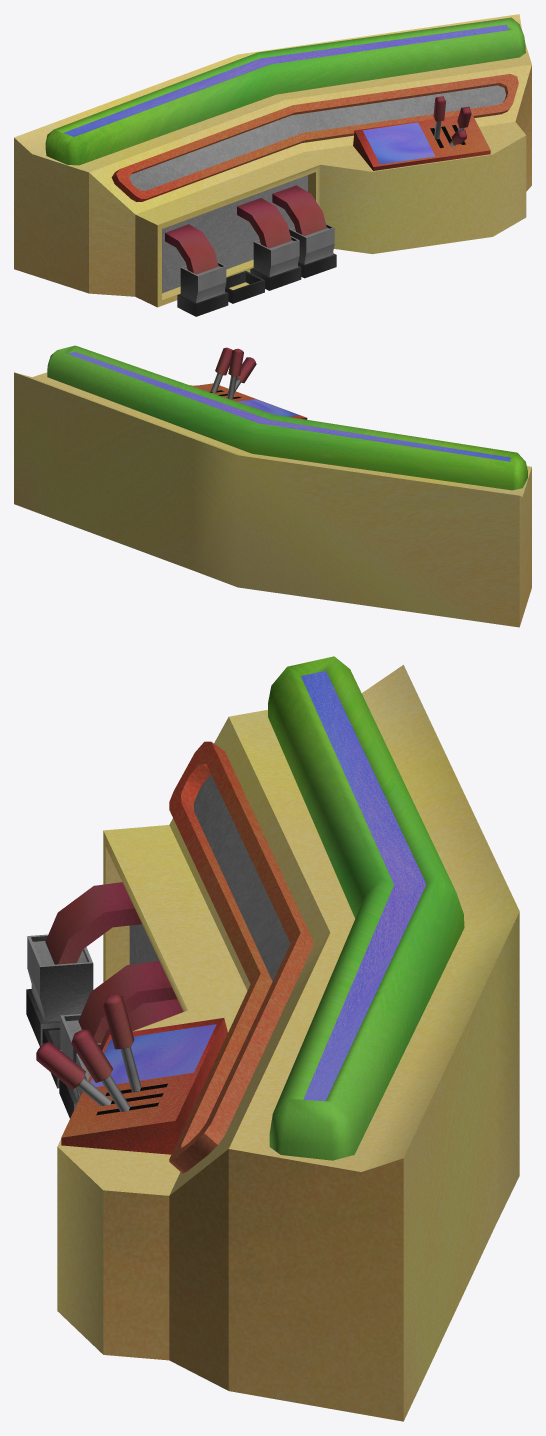
The model's file is MemeFactory_Terminal_Art.glb.
3 views of the same model, one above another, from view 1: azimuth 30°, elevation 25°; view 2: azimuth 150°, elevation 25°; view 3: azimuth 270°, elevation 25° (orthographic). The views are drawn at different scales.
Visible parts, largest first — view 1: MemeFactory_Terminal_Art; view 2: MemeFactory_Terminal_Art; view 3: MemeFactory_Terminal_Art.
Part boxes in pixels (x1,y1,x2,y2): MemeFactory_Terminal_Art: (14,14,531,316); MemeFactory_Terminal_Art: (14,345,531,627); MemeFactory_Terminal_Art: (26,656,519,1421).
Bounding box in the file's own units: 5.45 × 1.54 × 2.3.
Materials: 7 (7 with a texture image).
